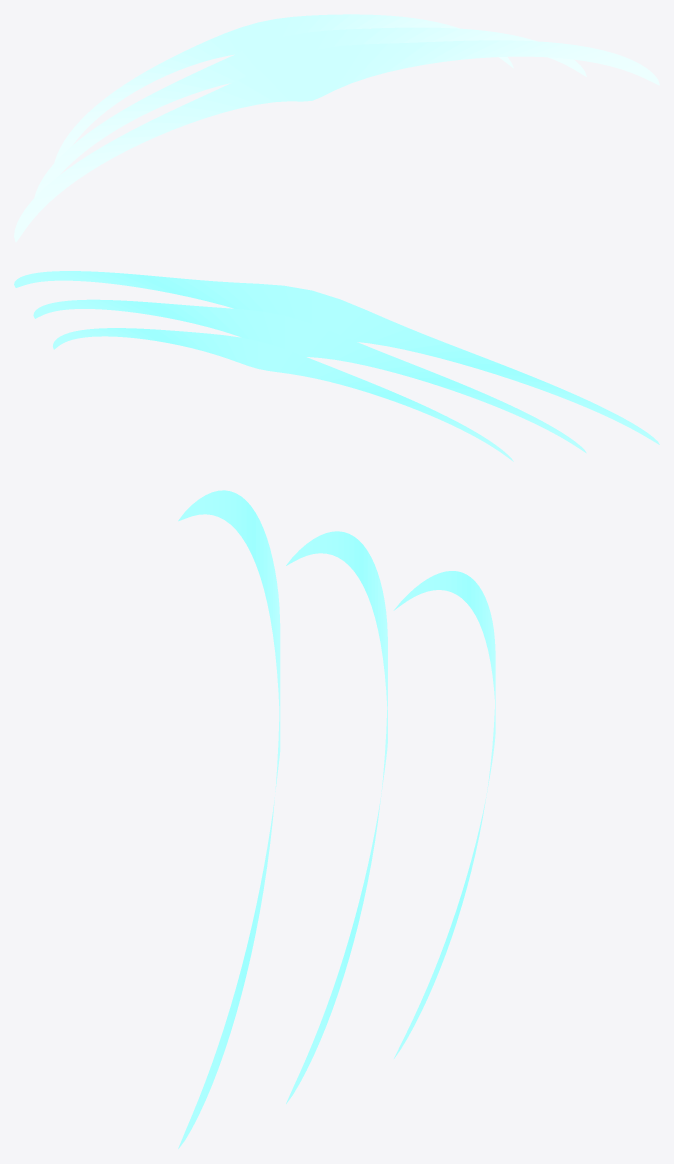
The model's file is slash.glb.
3 views of the same model, one above another, from view 1: azimuth 30°, elevation 25°; view 2: azimuth 150°, elevation 25°; view 3: azimuth 270°, elevation 25° (orthographic). The views are drawn at different scales.
Parts seen in each view (by area): view 1: slash; view 2: slash; view 3: slash.
Boxes of the visible parts, x1,y1,x2,y2 form: slash: (14, 14, 659, 242); slash: (14, 271, 659, 461); slash: (178, 490, 495, 1148).
Bounding box in the file's own units: 0.4835 × 0.0678 × 0.1032.
